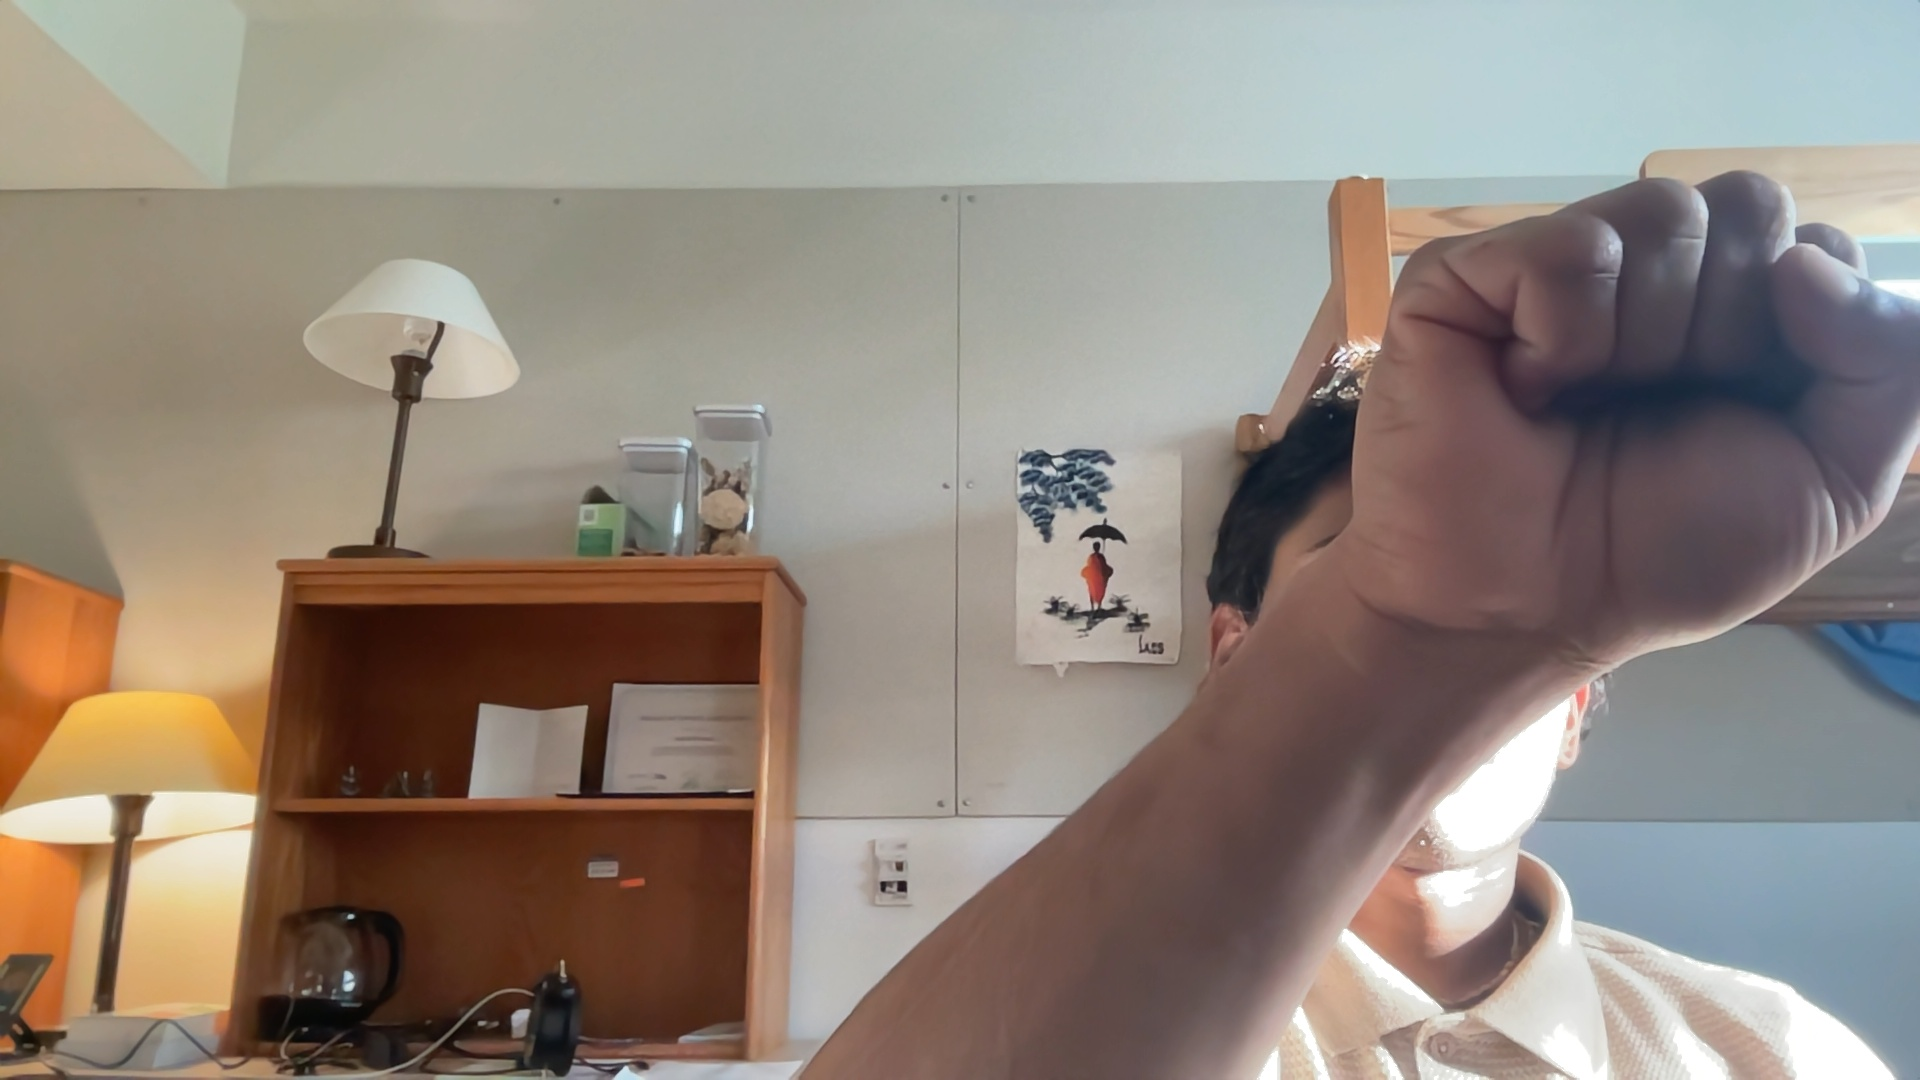s: (1287, 175, 1920, 678)
